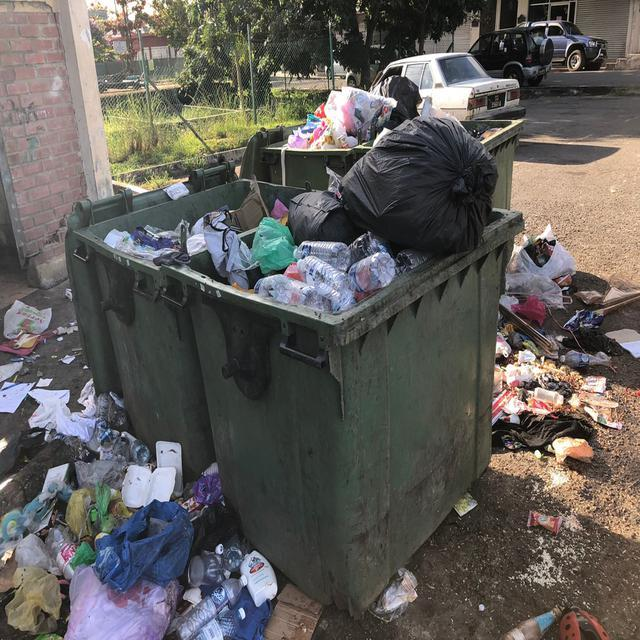garbage: (1, 408, 252, 637), (485, 222, 640, 464), (126, 182, 383, 295), (339, 112, 483, 239), (281, 82, 419, 147), (355, 553, 431, 629), (491, 600, 621, 640), (1, 295, 59, 363), (512, 497, 575, 539)
